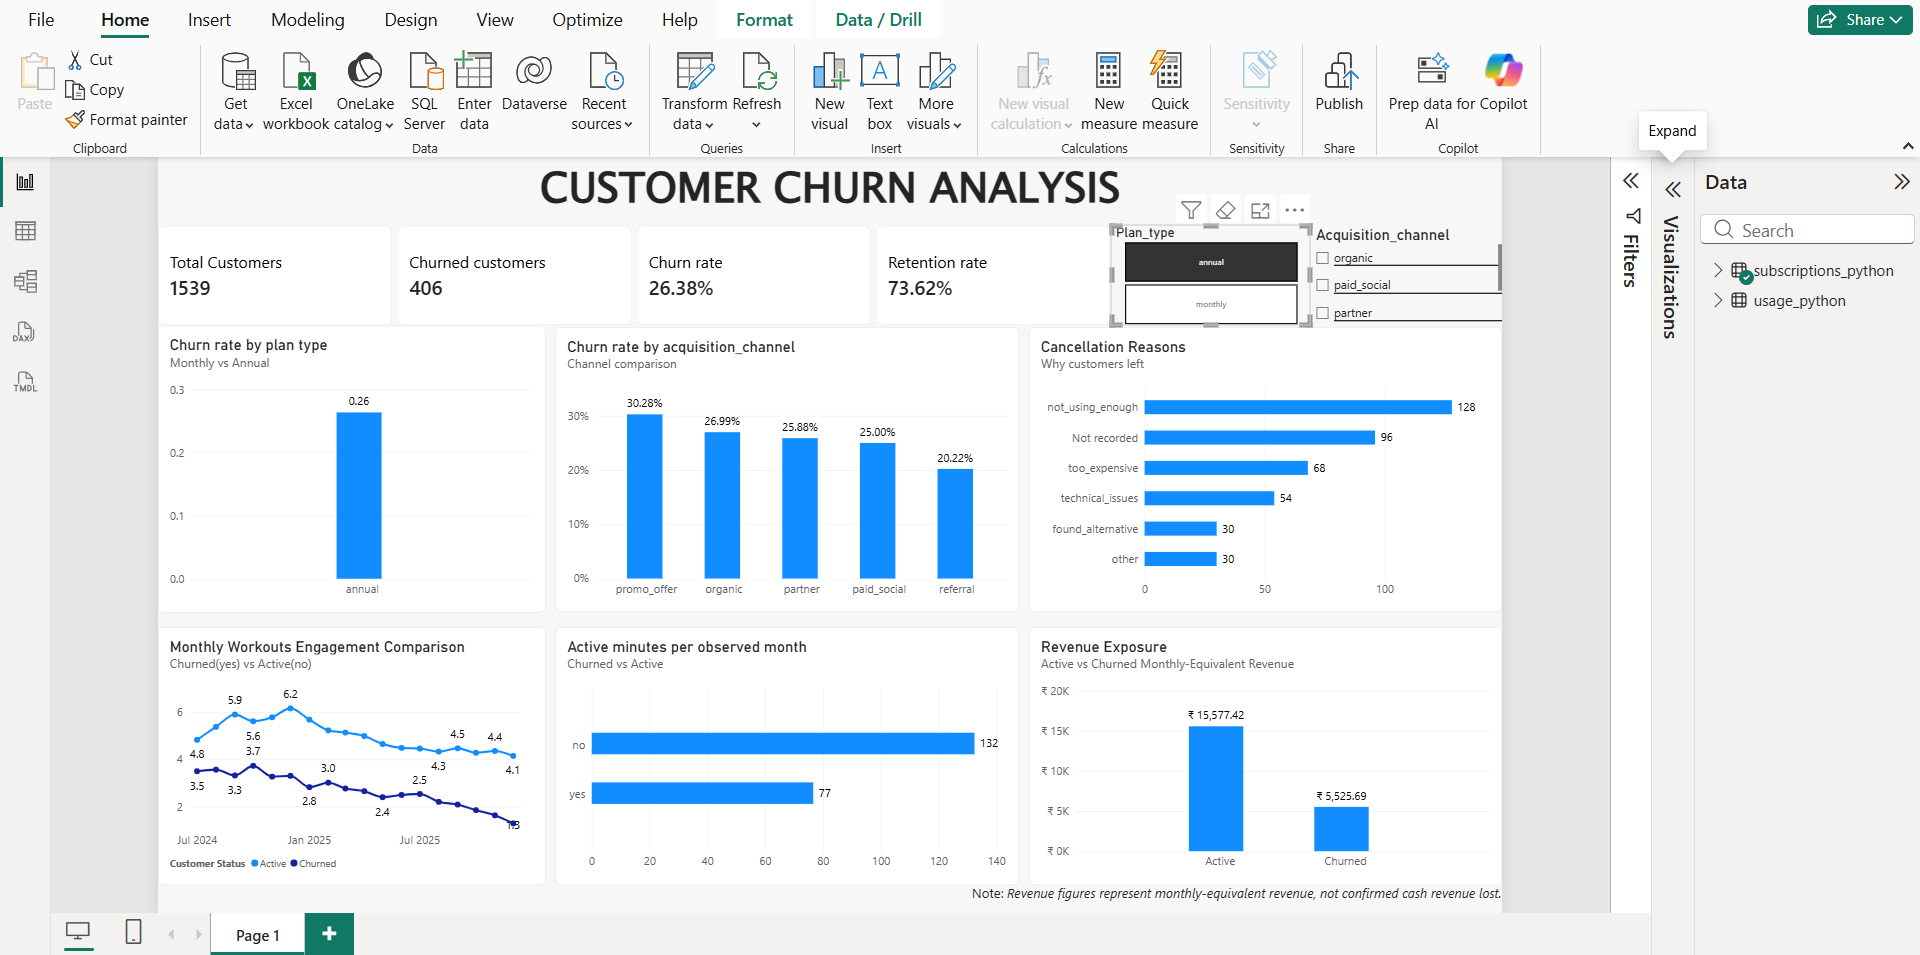

Layout of this report page (visuals, bound fields, positions):
{"tool":"powerbi","page":{"name":"Page 1","canvas":[1920,1080],"ordinal":0},"visuals":[{"type":"cardVisual","fields":{"Data":["subscriptions_python.Total Customers","subscriptions_python.Churned customers","subscriptions_python.Churn rate","subscriptions_python.Retention rate"]},"box":[0,98.8,1360.6,142],"z":0},{"type":"clusteredColumnChart","title":"Churn rate by acquisition_channel","fields":{"Category":["subscriptions_python.acquisition_channel"],"Y":["subscriptions_python.Churn rate"]},"box":[568.1,242.9,662.8,407.5],"z":3000},{"type":"clusteredBarChart","title":"Cancellation Reasons","fields":{"Category":["subscriptions_python.cancel_reason_clean"],"Y":["Count(subscriptions_python.customer_id)"]},"box":[1245.3,242.9,675.1,407.5],"z":7000},{"type":"clusteredColumnChart","title":"Churn rate by plan type","fields":{"Category":["subscriptions_python.plan_type"],"Y":["subscriptions_python.Churn rate"]},"box":[0,240.8,553.7,409.6],"z":12000},{"type":"lineChart","title":"Monthly Workouts Engagement Comparison","fields":{"Category":["usage_python.month"],"Series":["subscriptions_python.Customer Status"],"Y":["subscriptions_python.Average Monthly Workouts per Customer"]},"box":[0,671,553.7,368.4],"z":12001},{"type":"clusteredBarChart","title":"Active minutes per observed month","fields":{"Category":["subscriptions_python.churned"],"Y":["subscriptions_python.Average active minutes per observed month"]},"box":[568.1,671,662.8,368.4],"z":12002},{"type":"clusteredColumnChart","title":"Revenue Exposure","fields":{"Category":["subscriptions_python.Customer Status"],"Y":["subscriptions_python.Total Monthly-Equivalent Revenue"]},"box":[1245.3,671,675.1,368.4],"z":12003},{"type":"textbox","box":[0,0,1920.4,98.8],"z":12004},{"type":"slicer","fields":{"Values":["subscriptions_python.acquisition_channel"]},"box":[1646.7,98.8,275.8,142],"z":12005},{"type":"slicer","fields":{"Values":["subscriptions_python.plan_type"]},"box":[1360.6,96.7,286.1,144.1],"z":12006},{"type":"textbox","box":[100.9,1039.5,1819.6,41.2],"z":12007}]}

Visuals, with their boxes on the page's 1920x1080 design canvas (x1, y1, x2, y2). These are canvas units, not pixel positions in the 1920x955 screenshot, which may show the page scaled, cropped or inside an application window:
cardVisual - subscriptions_python.Total Customers x subscriptions_python.Churned customers: (left=0, top=99, right=1361, bottom=241)
"Churn rate by acquisition_channel" clusteredColumnChart: (left=568, top=243, right=1231, bottom=650)
"Cancellation Reasons" clusteredBarChart: (left=1245, top=243, right=1920, bottom=650)
"Churn rate by plan type" clusteredColumnChart: (left=0, top=241, right=554, bottom=650)
"Monthly Workouts Engagement Comparison" lineChart: (left=0, top=671, right=554, bottom=1039)
"Active minutes per observed month" clusteredBarChart: (left=568, top=671, right=1231, bottom=1039)
"Revenue Exposure" clusteredColumnChart: (left=1245, top=671, right=1920, bottom=1039)
textbox: (left=0, top=0, right=1920, bottom=99)
slicer - subscriptions_python.acquisition_channel: (left=1647, top=99, right=1922, bottom=241)
slicer - subscriptions_python.plan_type: (left=1361, top=97, right=1647, bottom=241)
textbox: (left=101, top=1040, right=1920, bottom=1081)
